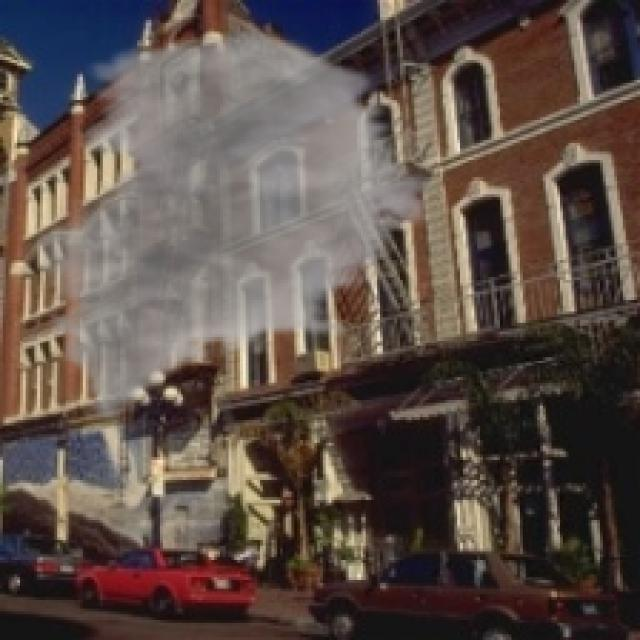smoke: (20, 26, 446, 426)
